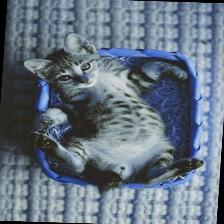kedo: (25, 31, 203, 188)
